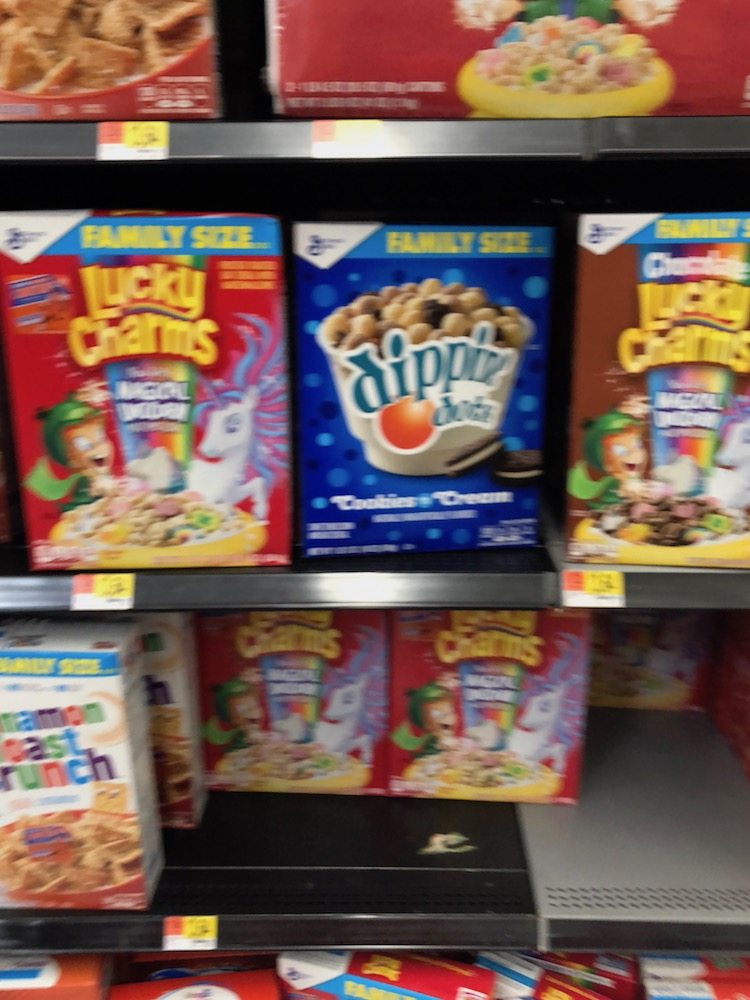Dippin Dots Cookies & Cream -568929378: (301, 238, 543, 555)
